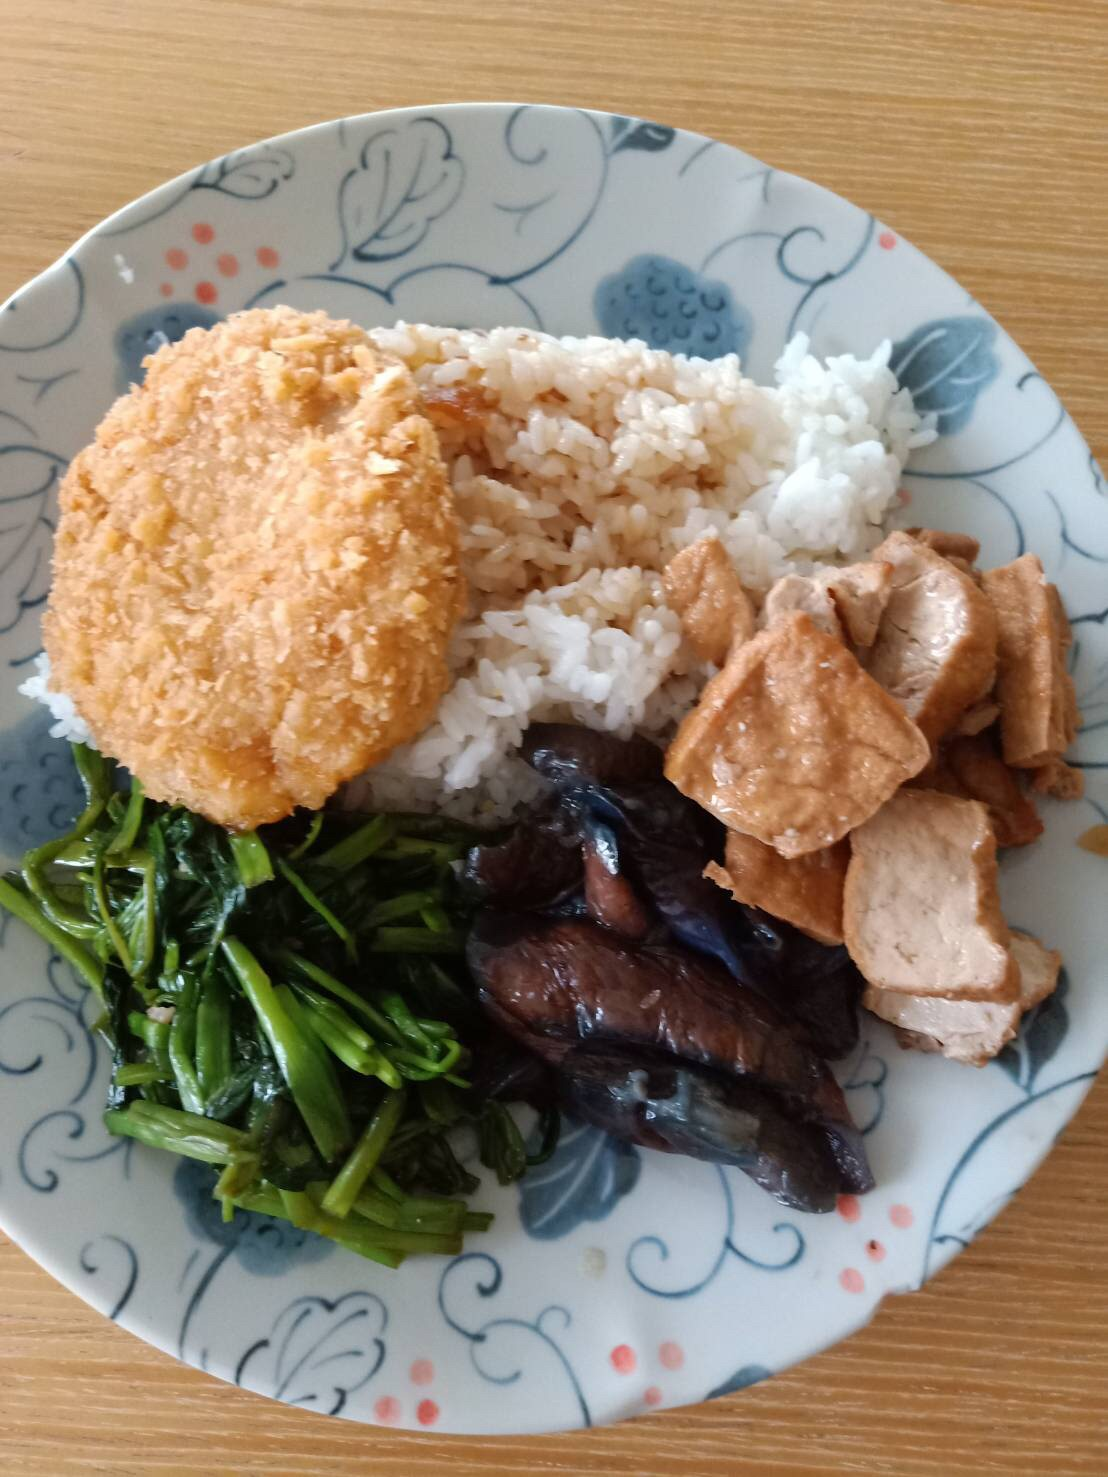fried_chicken: (45, 303, 464, 822)
rice: (466, 324, 915, 578)
water_spinach: (74, 816, 453, 1240)
